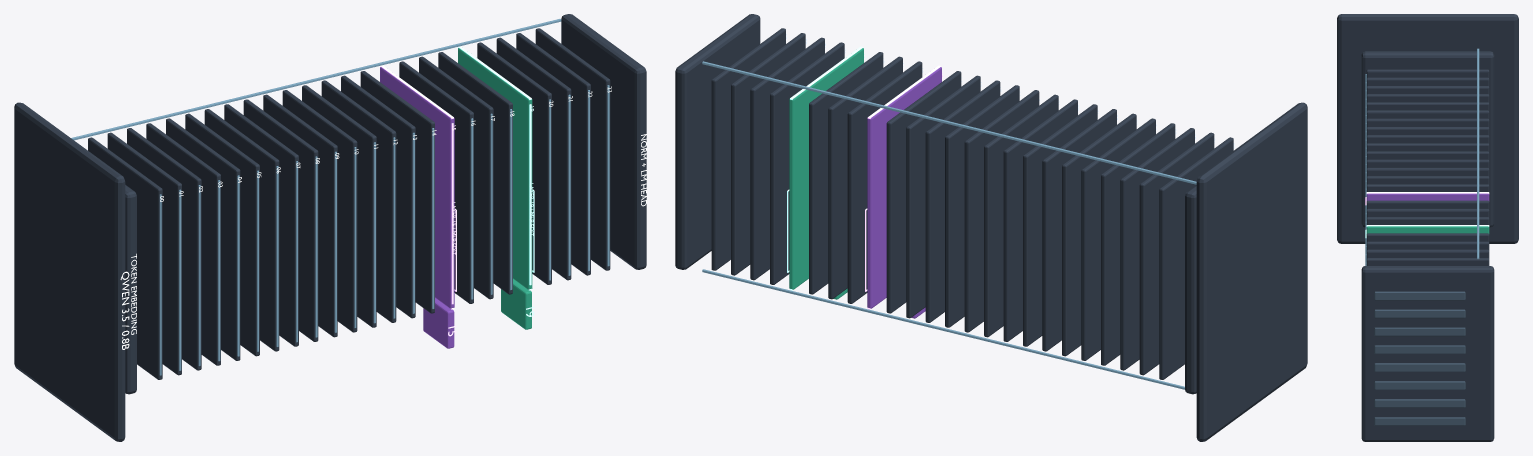
Rendered from qwen-layers.glb.
3 renders of one model, left to right at view 1: azimuth 30°, elevation 25°; view 2: azimuth 150°, elevation 25°; view 3: azimuth 270°, elevation 25°, orthographic. The views are drawn at different scales.
Parts seen in each view (by area): view 1: Display plinth, Output_housing, L00_chassis, L12_chassis, L10_chassis, L21_chassis, L23_chassis, L08_chassis, L06_chassis, L02_chassis, L17_chassis, L04_chassis (+18 smaller); view 2: Display plinth, Output_housing, L00_chassis, L01_chassis, L14_chassis, L16_chassis, L12_chassis, L10_chassis, L18_chassis, L05_chassis, L06_chassis, L09_chassis (+17 smaller); view 3: Output_housing, Display plinth, Embedding_housing, L04_chassis, L09_chassis, L11_chassis, L16_chassis, L20_chassis, L21_chassis, L00_chassis, L01_chassis, L03_chassis (+26 smaller).
Boxes of the visible parts, bbox=[...] form: Display plinth: bbox=[14, 102, 125, 441]; Output_housing: bbox=[561, 14, 646, 269]; L00_chassis: bbox=[88, 137, 162, 379]; L12_chassis: bbox=[321, 80, 396, 322]; L10_chassis: bbox=[282, 90, 357, 332]; L21_chassis: bbox=[496, 37, 571, 280]; L23_chassis: bbox=[535, 28, 610, 270]; L08_chassis: bbox=[243, 99, 318, 341]; L06_chassis: bbox=[204, 109, 279, 351]; L02_chassis: bbox=[127, 128, 201, 370]; L17_chassis: bbox=[419, 56, 493, 299]; L04_chassis: bbox=[166, 118, 240, 360]; Display plinth: bbox=[1196, 102, 1307, 441]; Output_housing: bbox=[675, 14, 760, 269]; L00_chassis: bbox=[1159, 137, 1233, 379]; L01_chassis: bbox=[1139, 132, 1214, 375]; L14_chassis: bbox=[886, 71, 961, 313]; L16_chassis: bbox=[847, 61, 922, 303]; L12_chassis: bbox=[925, 80, 1000, 322]; L10_chassis: bbox=[964, 90, 1039, 332]; L18_chassis: bbox=[809, 52, 883, 294]; L05_chassis: bbox=[1062, 113, 1136, 356]; L06_chassis: bbox=[1042, 109, 1116, 351]; L09_chassis: bbox=[984, 94, 1058, 337]; Output_housing: bbox=[1361, 266, 1494, 441]; Display plinth: bbox=[1337, 14, 1518, 243]; Embedding_housing: bbox=[1361, 51, 1494, 227]; L04_chassis: bbox=[1366, 102, 1489, 111]; L09_chassis: bbox=[1366, 143, 1489, 152]; L11_chassis: bbox=[1366, 159, 1489, 168]; L16_chassis: bbox=[1366, 200, 1489, 209]; L20_chassis: bbox=[1366, 233, 1489, 242]; L21_chassis: bbox=[1366, 241, 1489, 250]; L00_chassis: bbox=[1366, 69, 1489, 78]; L01_chassis: bbox=[1366, 77, 1489, 86]; L03_chassis: bbox=[1366, 94, 1489, 102].
Size of the model in its own units: 13.78 by 6.5 by 4.62.
